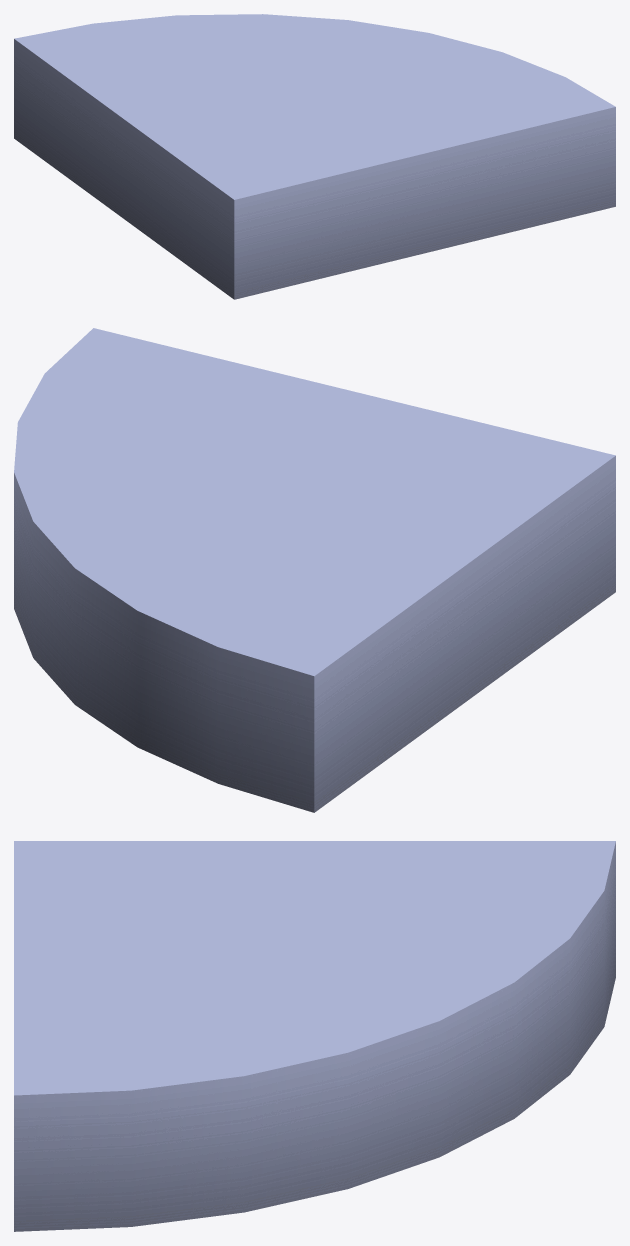
File: floor-thick-corner-round.glb
3 views of the same model, one above another, from view 1: azimuth 30°, elevation 25°; view 2: azimuth 150°, elevation 25°; view 3: azimuth 270°, elevation 25° (orthographic). The views are drawn at different scales.
Visible parts, largest first — view 1: floor-thick-corner-round; view 2: floor-thick-corner-round; view 3: floor-thick-corner-round.
Part boxes in pixels (x1,y1,x2,y2): floor-thick-corner-round: [14, 14, 615, 299]; floor-thick-corner-round: [14, 328, 615, 812]; floor-thick-corner-round: [14, 841, 615, 1231].
Bounding box in the file's own units: 1 × 0.25 × 1.
1 material, 1 textured.
